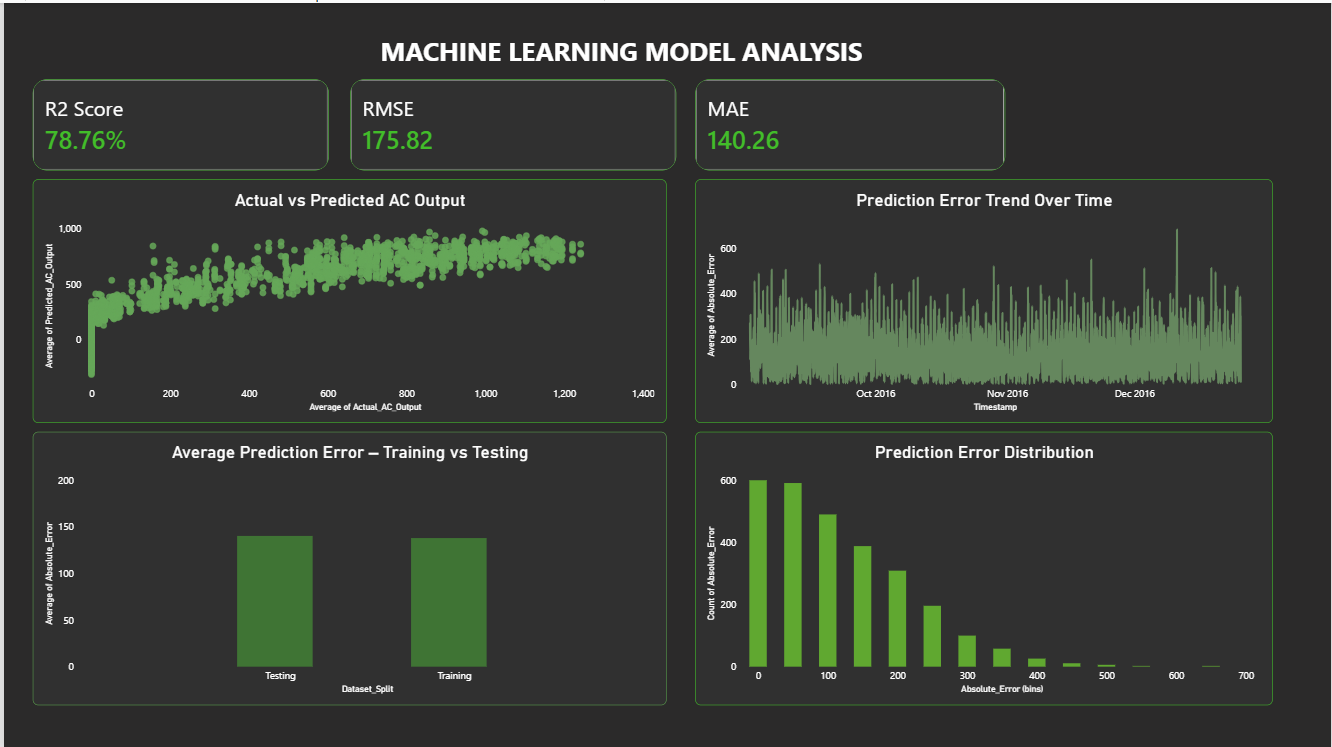

What the dashboard file says about the page in this screenshot:
{"tool":"powerbi","page":{"name":"ML Model Analysis","canvas":[1920,1080],"ordinal":1},"visuals":[{"type":"textbox","box":[369.2,43.4,1049.6,67],"z":0},{"type":"scatterChart","title":"Actual vs Predicted AC Output","fields":{"Category":["Renewable_Energyy.Timestamp"],"X":["Avg(Renewable_Energyy.Actual_AC_Output)"],"Y":["Avg(Renewable_Energyy.Predicted_AC_Output)"]},"box":[41.6,255.2,917.5,352.9],"z":1000},{"type":"clusteredColumnChart","title":"Average Prediction Error – Training vs Testing","fields":{"Category":["Renewable_Energyy.Dataset_Split"],"Y":["Avg(Renewable_Energyy.Absolute_Error)"]},"box":[41.6,620.7,917.5,396.3],"z":2000},{"type":"lineChart","title":"Prediction Error Trend Over Time","fields":{"Category":["Renewable_Energyy.Timestamp"],"Y":["Avg(Renewable_Energyy.Absolute_Error)"]},"box":[1000.7,255.2,836.1,352.9],"z":3000},{"type":"clusteredColumnChart","title":"Prediction Error Distribution","fields":{"Category":["Renewable_Energyy.Absolute_Error (bins)"],"Y":["CountNonNull(Renewable_Energyy.Absolute_Error)"]},"box":[1000.7,620.7,836.1,396.3],"z":4000},{"type":"cardVisual","fields":{"Data":["Renewable_Energyy.R2 Score"]},"box":[41.6,110.4,428.9,132.1],"z":5000},{"type":"cardVisual","fields":{"Data":["Renewable_Energyy.RMSE"]},"box":[501.3,110.4,472.3,132.1],"z":6000},{"type":"cardVisual","fields":{"Data":["Renewable_Energyy.MAE"]},"box":[1000.7,110.4,448.8,132.1],"z":7000}]}

Visuals, with their boxes in screenshot pixels (x1, y1, x2, y2), scaled from the page's 1920x1080 canvas onto the 1332x747 screenshot:
textbox: box(256, 30, 984, 76)
"Actual vs Predicted AC Output" scatterChart: box(29, 177, 665, 421)
"Average Prediction Error – Training vs Testing" clusteredColumnChart: box(29, 429, 665, 703)
"Prediction Error Trend Over Time" lineChart: box(694, 177, 1274, 421)
"Prediction Error Distribution" clusteredColumnChart: box(694, 429, 1274, 703)
cardVisual - Renewable_Energyy.R2 Score: box(29, 76, 326, 168)
cardVisual - Renewable_Energyy.RMSE: box(348, 76, 675, 168)
cardVisual - Renewable_Energyy.MAE: box(694, 76, 1006, 168)
